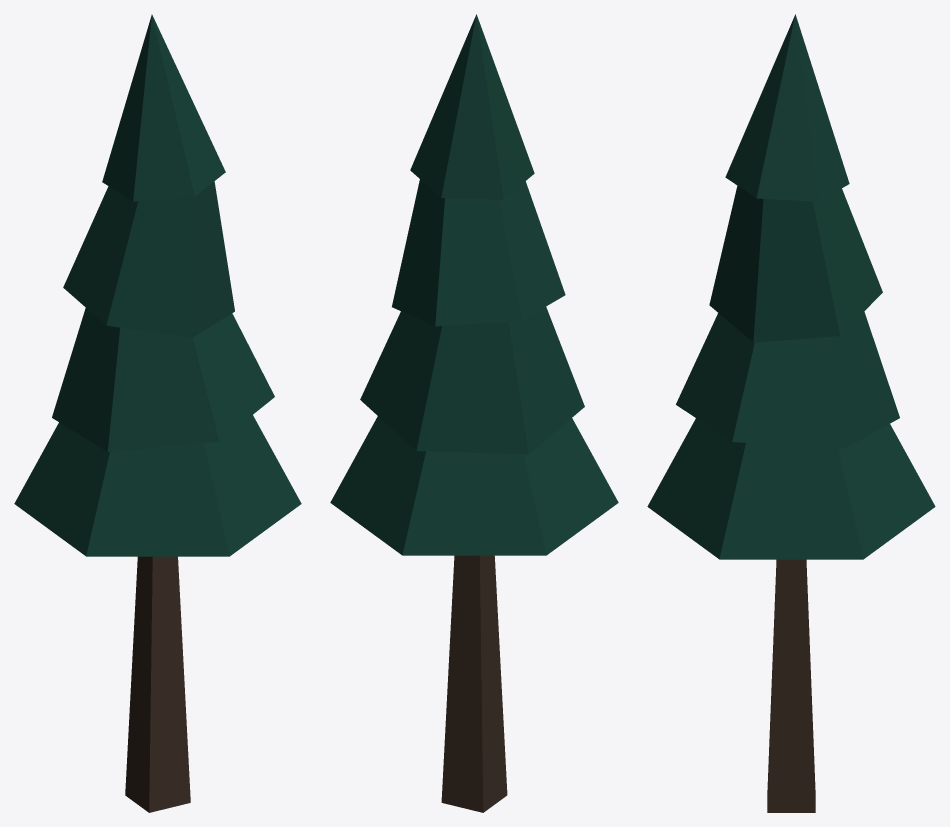
File: nk_night_pinetall_c.glb
The picture shows the model from 3 angles, left to right: view 1: azimuth 30°, elevation 25°; view 2: azimuth 150°, elevation 25°; view 3: azimuth 270°, elevation 25°; orthographic projection.
Visible parts, largest first — view 1: tree_pineTallC; view 2: tree_pineTallC; view 3: tree_pineTallC.
Part boxes in pixels (bbox=[...]): tree_pineTallC: bbox=[14, 14, 301, 812]; tree_pineTallC: bbox=[330, 14, 618, 812]; tree_pineTallC: bbox=[647, 14, 935, 812].
Bounding box in the file's own units: 2.44 × 8.5 × 2.82.
